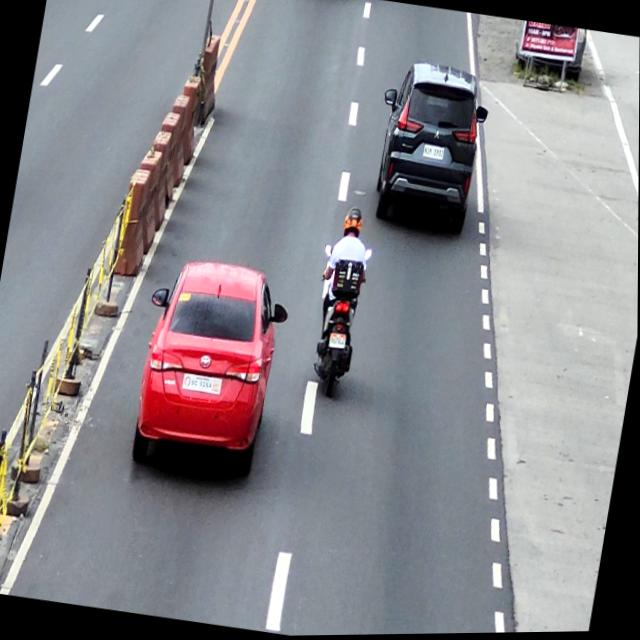Car: (125, 253, 296, 488), (364, 57, 496, 243)
License-Plate: (188, 374, 215, 393), (328, 332, 348, 352), (422, 146, 446, 162)
Motorcycle: (302, 244, 373, 401)
